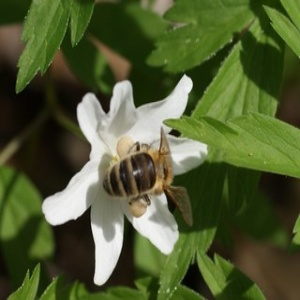bee: (100, 125, 199, 227)
